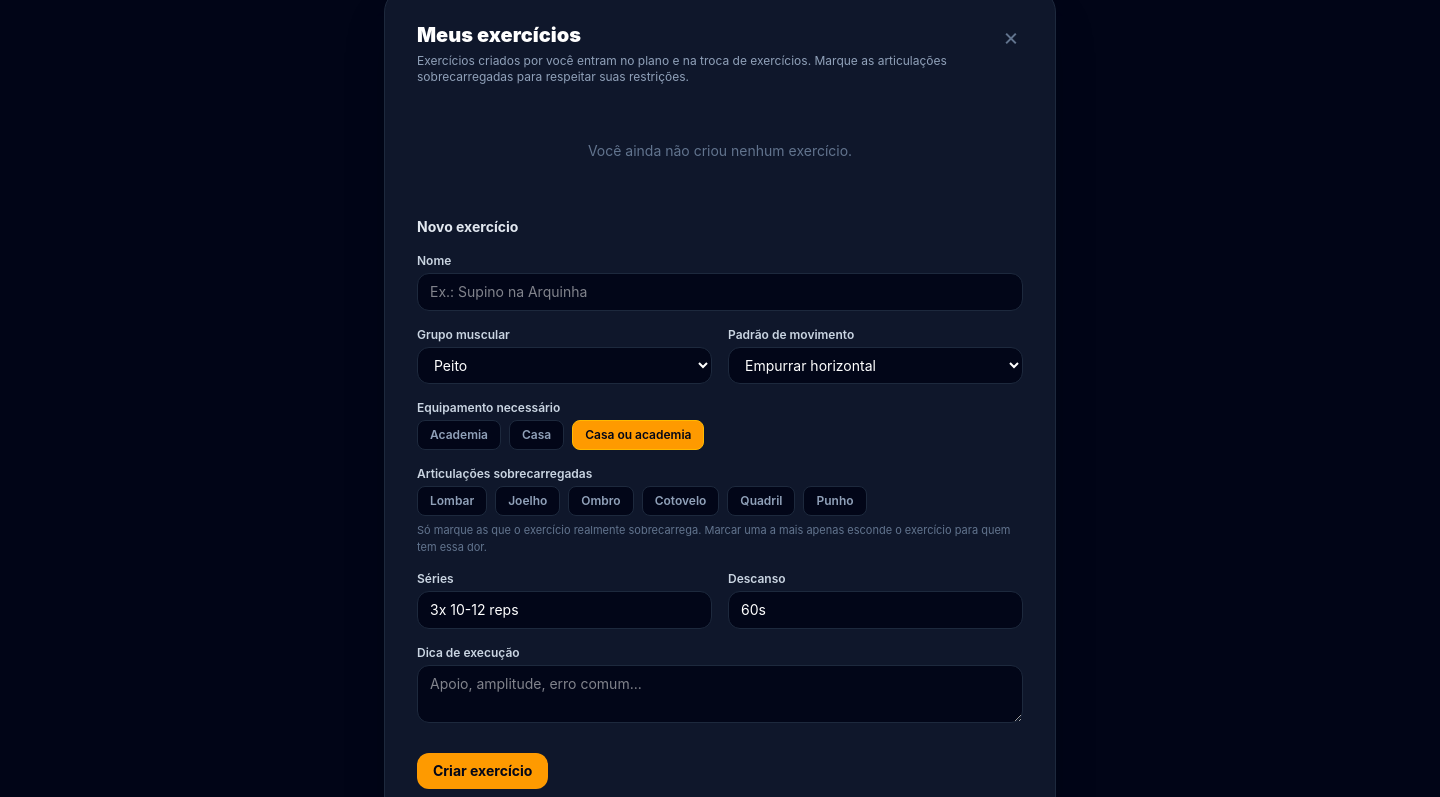
Test case: CustomExercisesModal — validação › bloqueia envio com nome curto e mostra resumo
Type "ab" into the field with id "input-custom-name" at [720, 292], box [417, 273, 1023, 311]
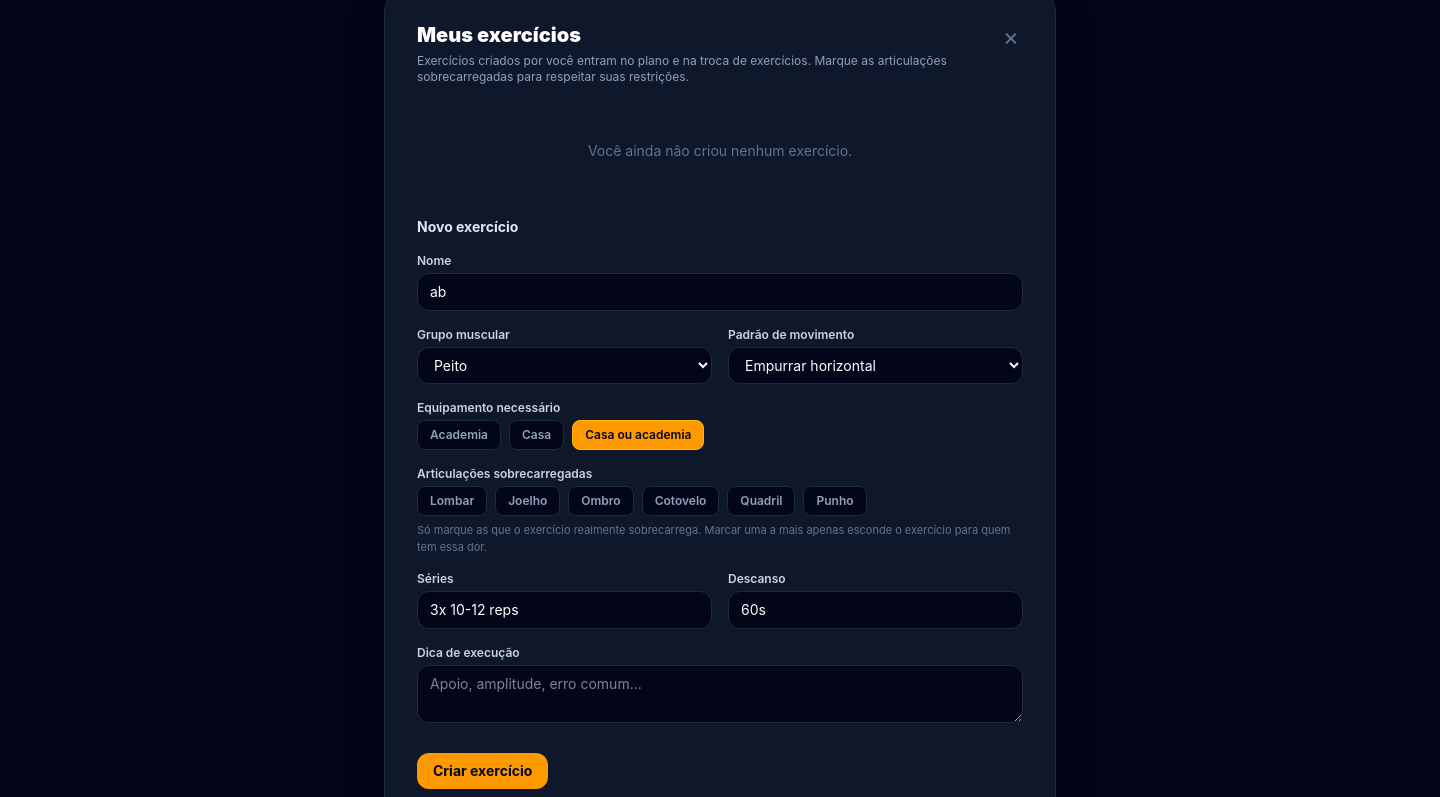
Submit the form with id "custom-exercise-form", box [417, 217, 1023, 789]
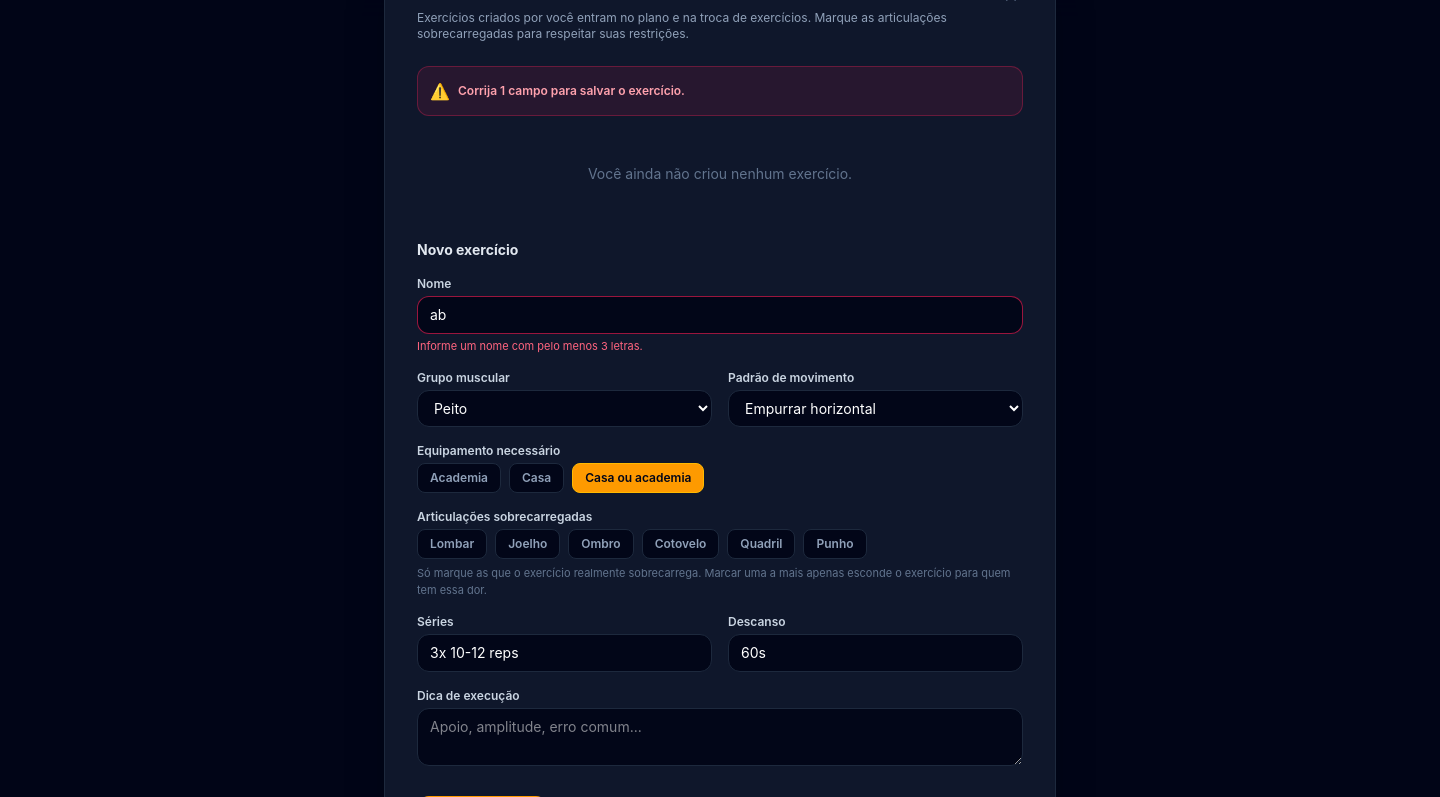
Expected: the message "⚠️ Corrija 1 campo para salvar o exercício." is shown, [417, 66, 1023, 116]
